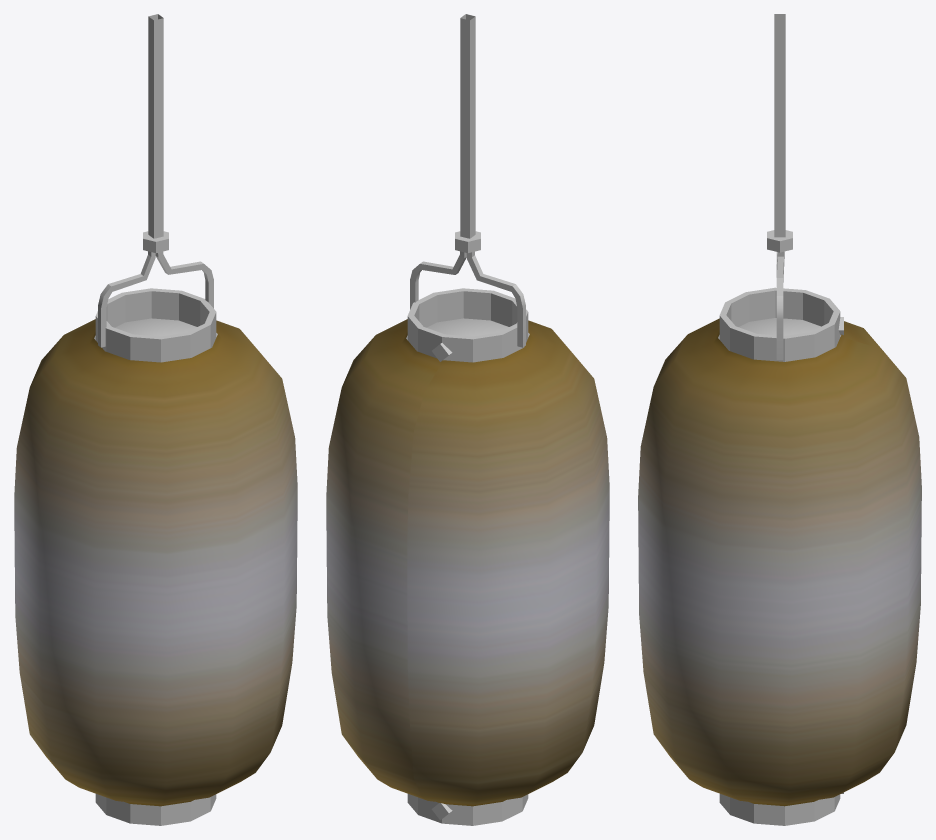
File: RightLighter.fbx
3 renders of one model, left to right at view 1: azimuth 30°, elevation 25°; view 2: azimuth 150°, elevation 25°; view 3: azimuth 270°, elevation 25°, orthographic.
Visible parts, largest first — view 1: LightRight_glow, LightRight; view 2: LightRight_glow, LightRight; view 3: LightRight_glow, LightRight.
Part boxes in pixels (x1,y1,x2,y2): LightRight_glow: (14, 319, 297, 806); LightRight: (94, 14, 217, 825); LightRight_glow: (326, 319, 609, 806); LightRight: (406, 14, 529, 825); LightRight_glow: (638, 318, 921, 806); LightRight: (718, 14, 843, 825).
Bounding box in the file's own units: 5.05 × 15.4 × 5.05.
